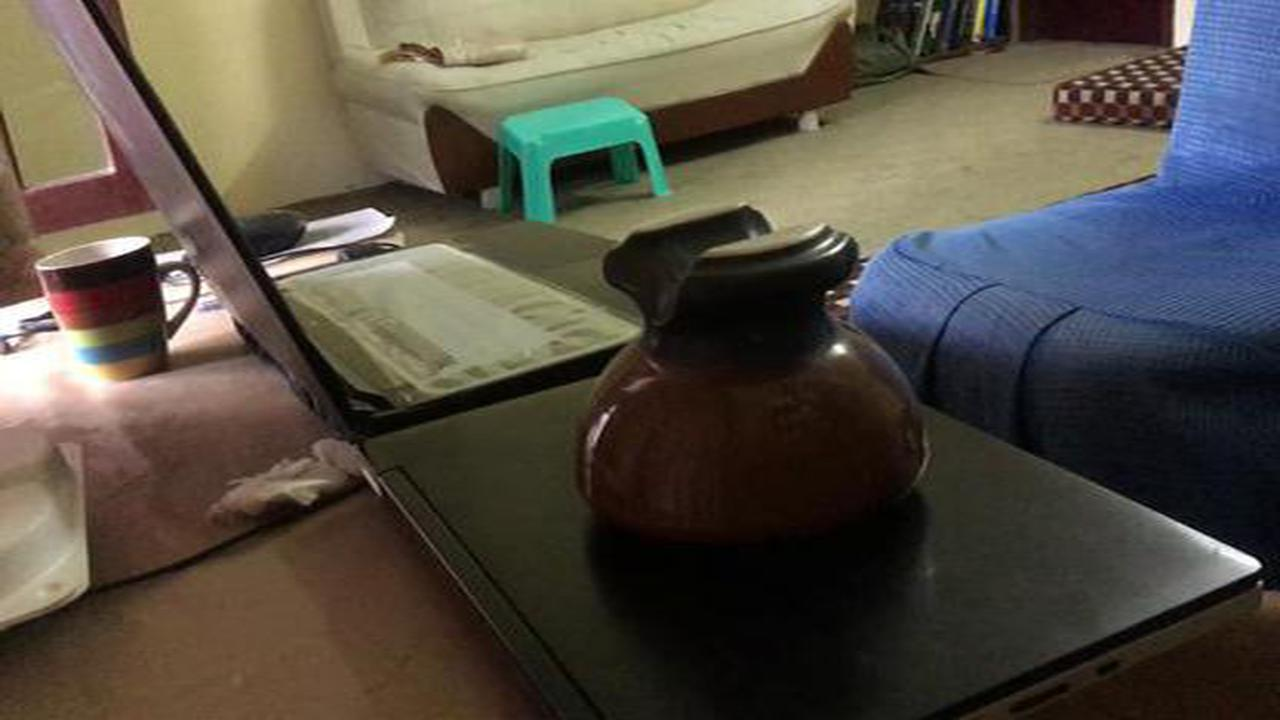insulator_pin: (567, 196, 936, 566)
